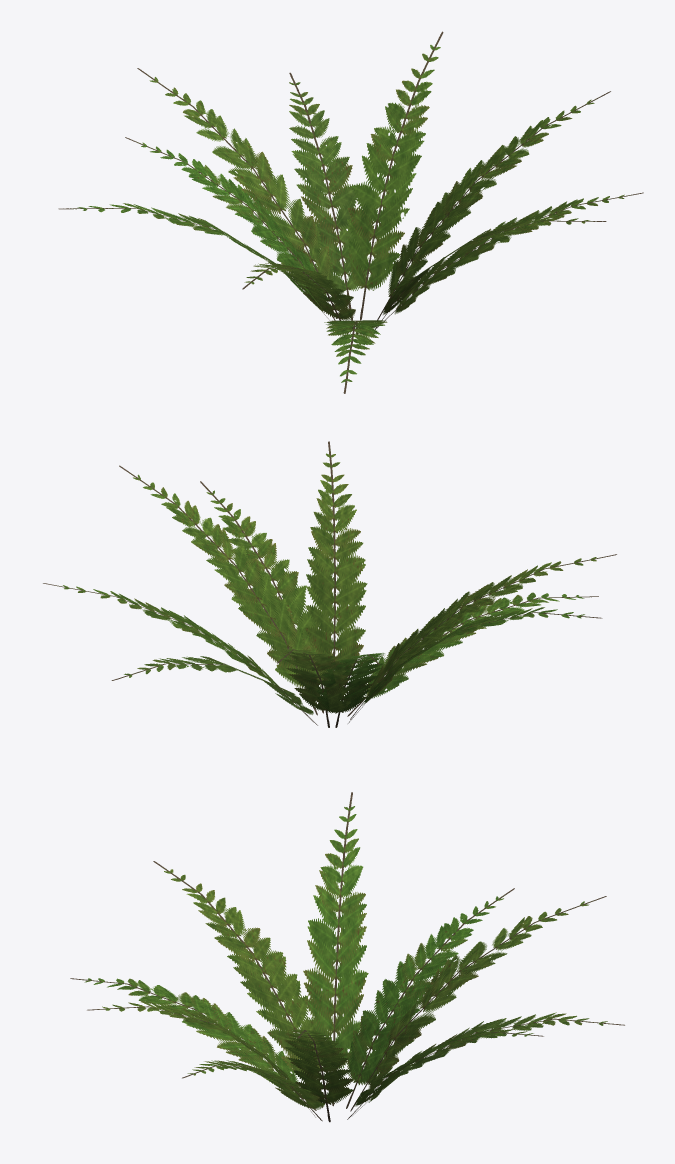
File: kapradi_3.glb
3 renders of one model, top to bottom at view 1: azimuth 30°, elevation 25°; view 2: azimuth 150°, elevation 25°; view 3: azimuth 270°, elevation 25°, orthographic. The views are drawn at different scales.
Visible parts, largest first — view 1: kapradi_3; view 2: kapradi_3; view 3: kapradi_3.
Part boxes in pixels (x1=…): kapradi_3: x1=58, y1=31, x2=643, y2=393; kapradi_3: x1=43, y1=441, x2=616, y2=727; kapradi_3: x1=70, y1=792, x2=624, y2=1122.
Bounding box in the file's own units: 1.42 × 0.4789 × 1.43.
1 material, 1 textured.
